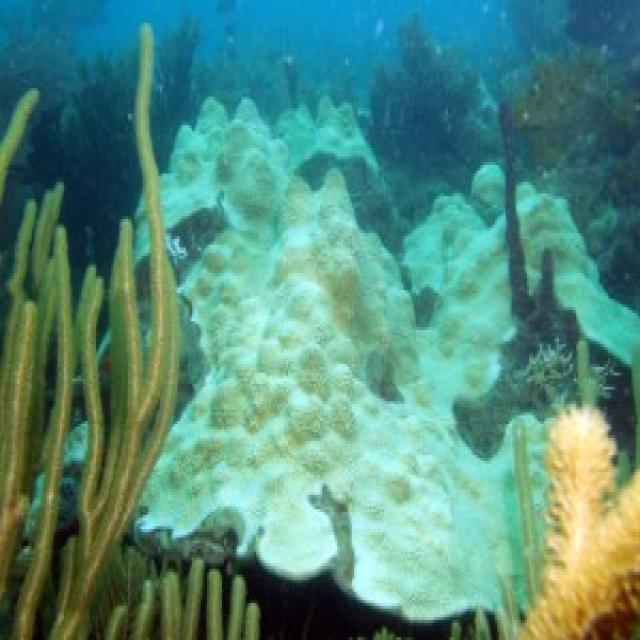Bleached: (168, 125, 357, 549), (364, 246, 522, 617), (523, 199, 640, 354)
Healthy: (6, 214, 151, 640), (1, 1, 154, 177), (547, 403, 640, 640), (377, 26, 469, 180), (532, 66, 640, 165), (144, 573, 268, 640)
